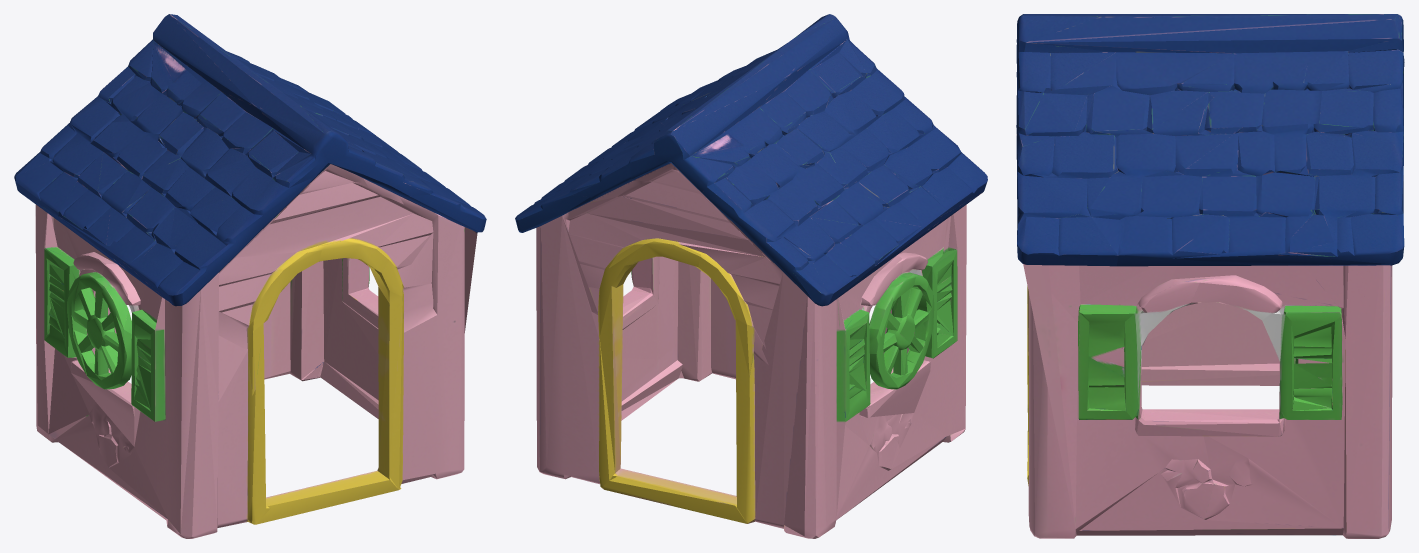
File: playhouse.glb
The picture shows the model from 3 angles, left to right: view 1: azimuth 30°, elevation 25°; view 2: azimuth 150°, elevation 25°; view 3: azimuth 270°, elevation 25°; orthographic projection. The views are drawn at different scales.
Size of the model in its own units: 1.66 by 1.9 by 1.5.
1 material, 1 textured.
